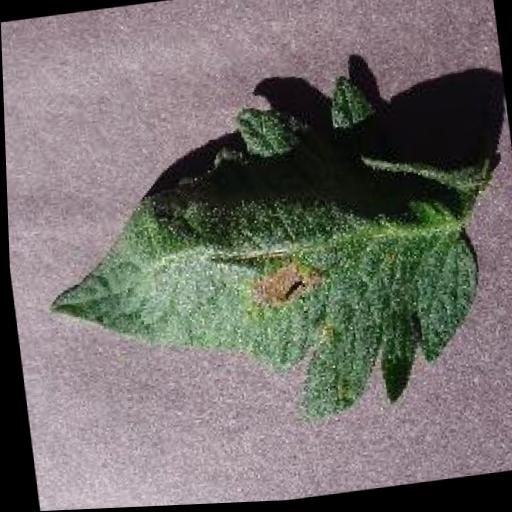Early Blight: (29, 66, 512, 450)
